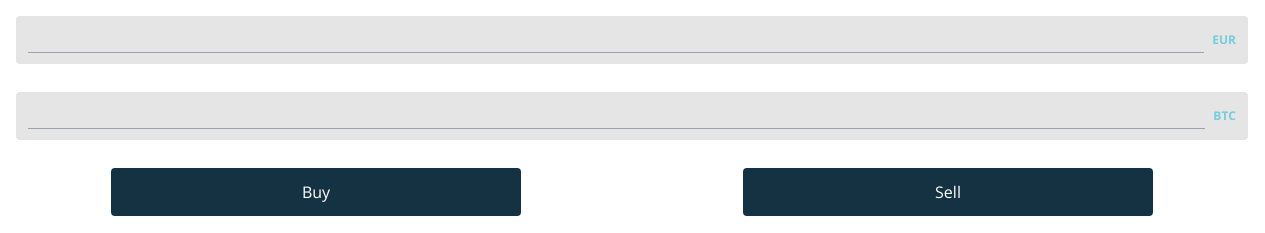
Scenario: TradeForm › buy validation › should show an error when EUR amount exceeds balance and user submits the form
The image size is (1265, 233).
Type "1000" into the number field next to "EUR" at (616, 40), box top-left (28, 28), bottom-right (1204, 52)
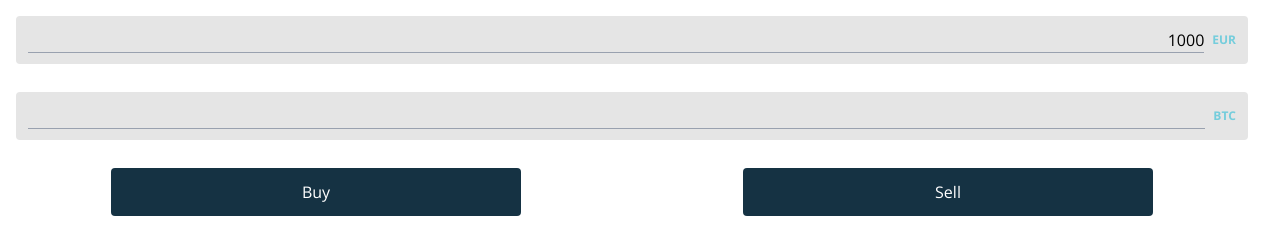
Click the button "Buy" at (316, 192), box top-left (111, 168), bottom-right (521, 216)
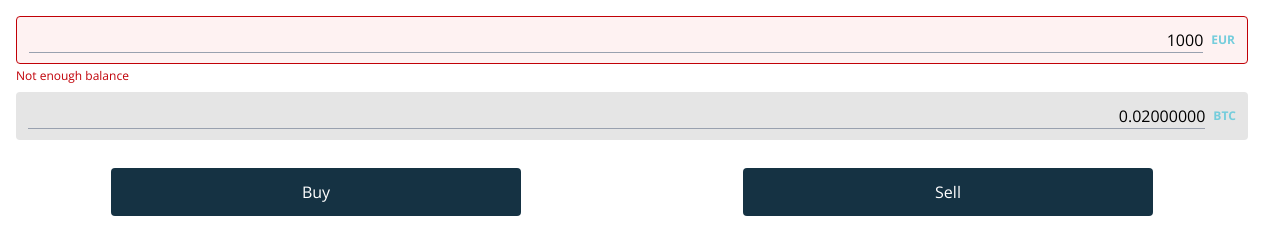
Check: the text "Not enough balance" is shown, box top-left (16, 67), bottom-right (129, 84)
